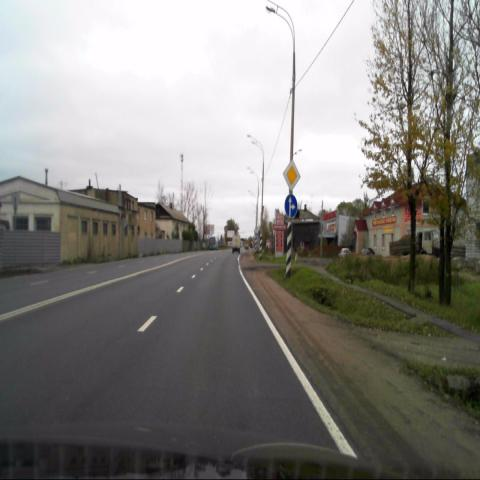4_1_4: (285, 195, 297, 218)
